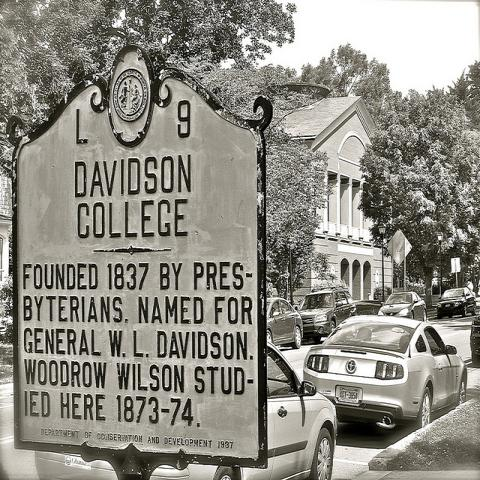car: (32, 337, 338, 479), (302, 314, 468, 429), (296, 288, 358, 344), (266, 296, 305, 350), (378, 288, 430, 324), (435, 286, 477, 322), (469, 308, 479, 365)
